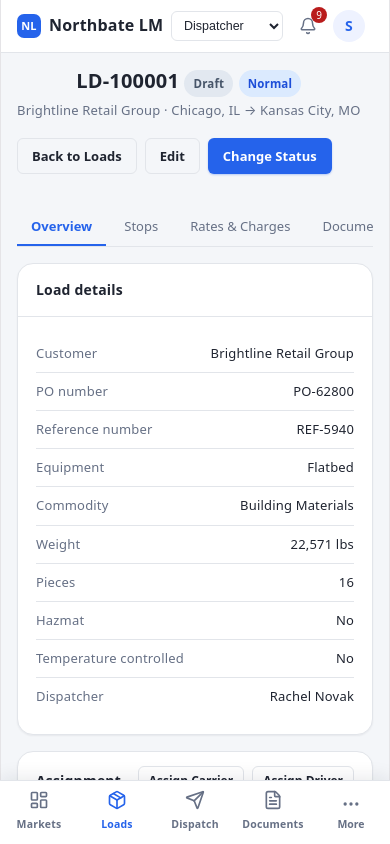
Test: App navigation smoke test › opens the mobile bottom-nav 'More' sheet and navigates from it
Click the button "More": (351,812) [312,781,389,843]
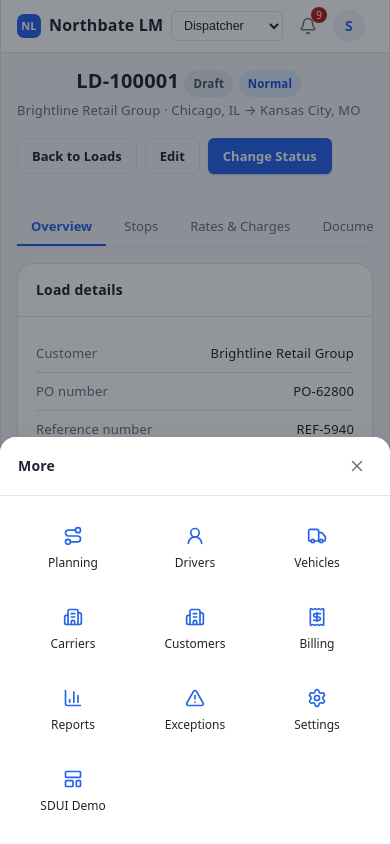
Expected: the element with class "more-sheet" is shown, [0,437,389,843]
Click the button "Billing": (317,630) [258,591,376,668]
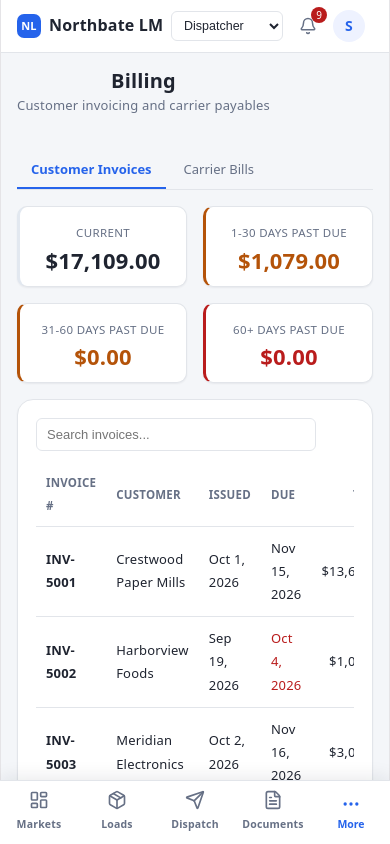
Expected: the text "Billing" is shown, [111,67,176,94]
Expected: the element with class "more-sheet" is gone
